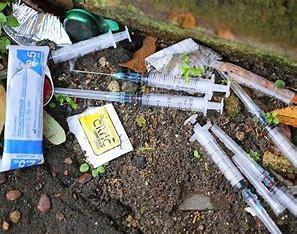Syringe: (178, 116, 286, 234), (71, 62, 242, 100), (50, 25, 143, 53)
